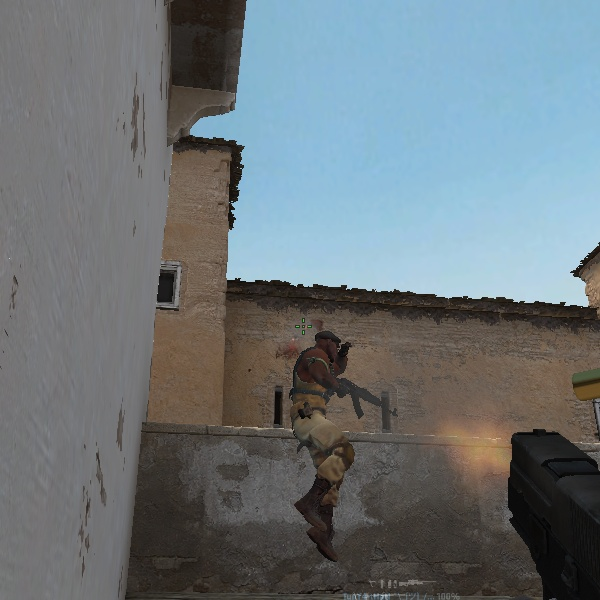t_body: (289, 330, 359, 529)
t_head: (311, 330, 342, 361)
